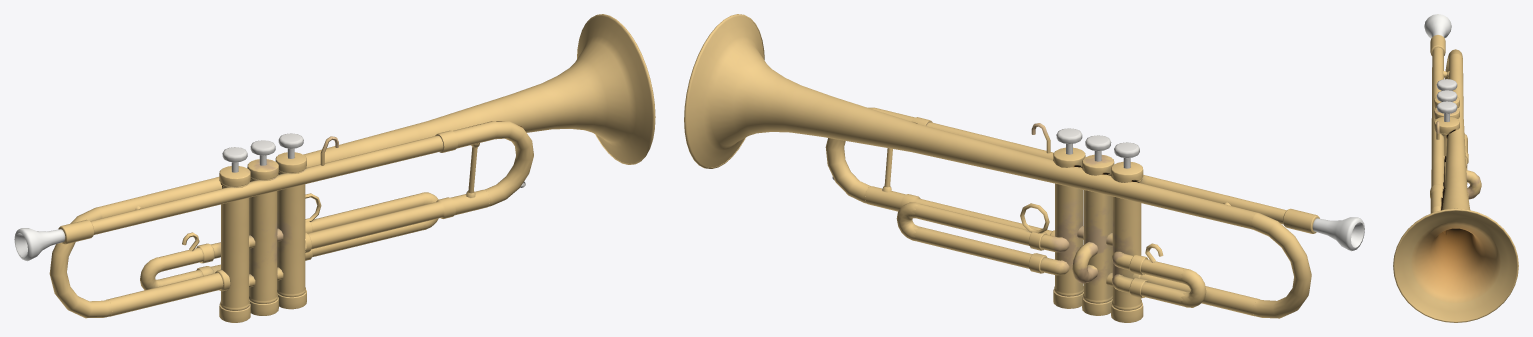
The model's file is ska_trumpet.glb.
3 views of the same model, side by side, from view 1: azimuth 30°, elevation 25°; view 2: azimuth 150°, elevation 25°; view 3: azimuth 270°, elevation 25° (orthographic). The views are drawn at different scales.
Visible parts, largest first — view 1: tp_body, tp_bell, tp_slide3; view 2: tp_body, tp_bell, tp_slide3; view 3: tp_bell, tp_body, tp_v3, tp_v1, tp_v2.
Part boxes in pixels (x1,y1,x2,y2): tp_body: [14, 121, 533, 322]; tp_bell: [97, 14, 655, 218]; tp_slide3: [305, 192, 438, 260]; tp_body: [825, 107, 1364, 322]; tp_bell: [684, 14, 1257, 229]; tp_slide3: [896, 202, 1069, 275]; tp_bell: [1393, 54, 1518, 322]; tp_body: [1424, 14, 1481, 235]; tp_v3: [1436, 101, 1457, 121]; tp_v1: [1436, 79, 1457, 90]; tp_v2: [1436, 90, 1457, 101].
Bounding box in the file's own units: 0.5403 × 0.1704 × 0.1192.
Materials: 1 (1 with a texture image).
